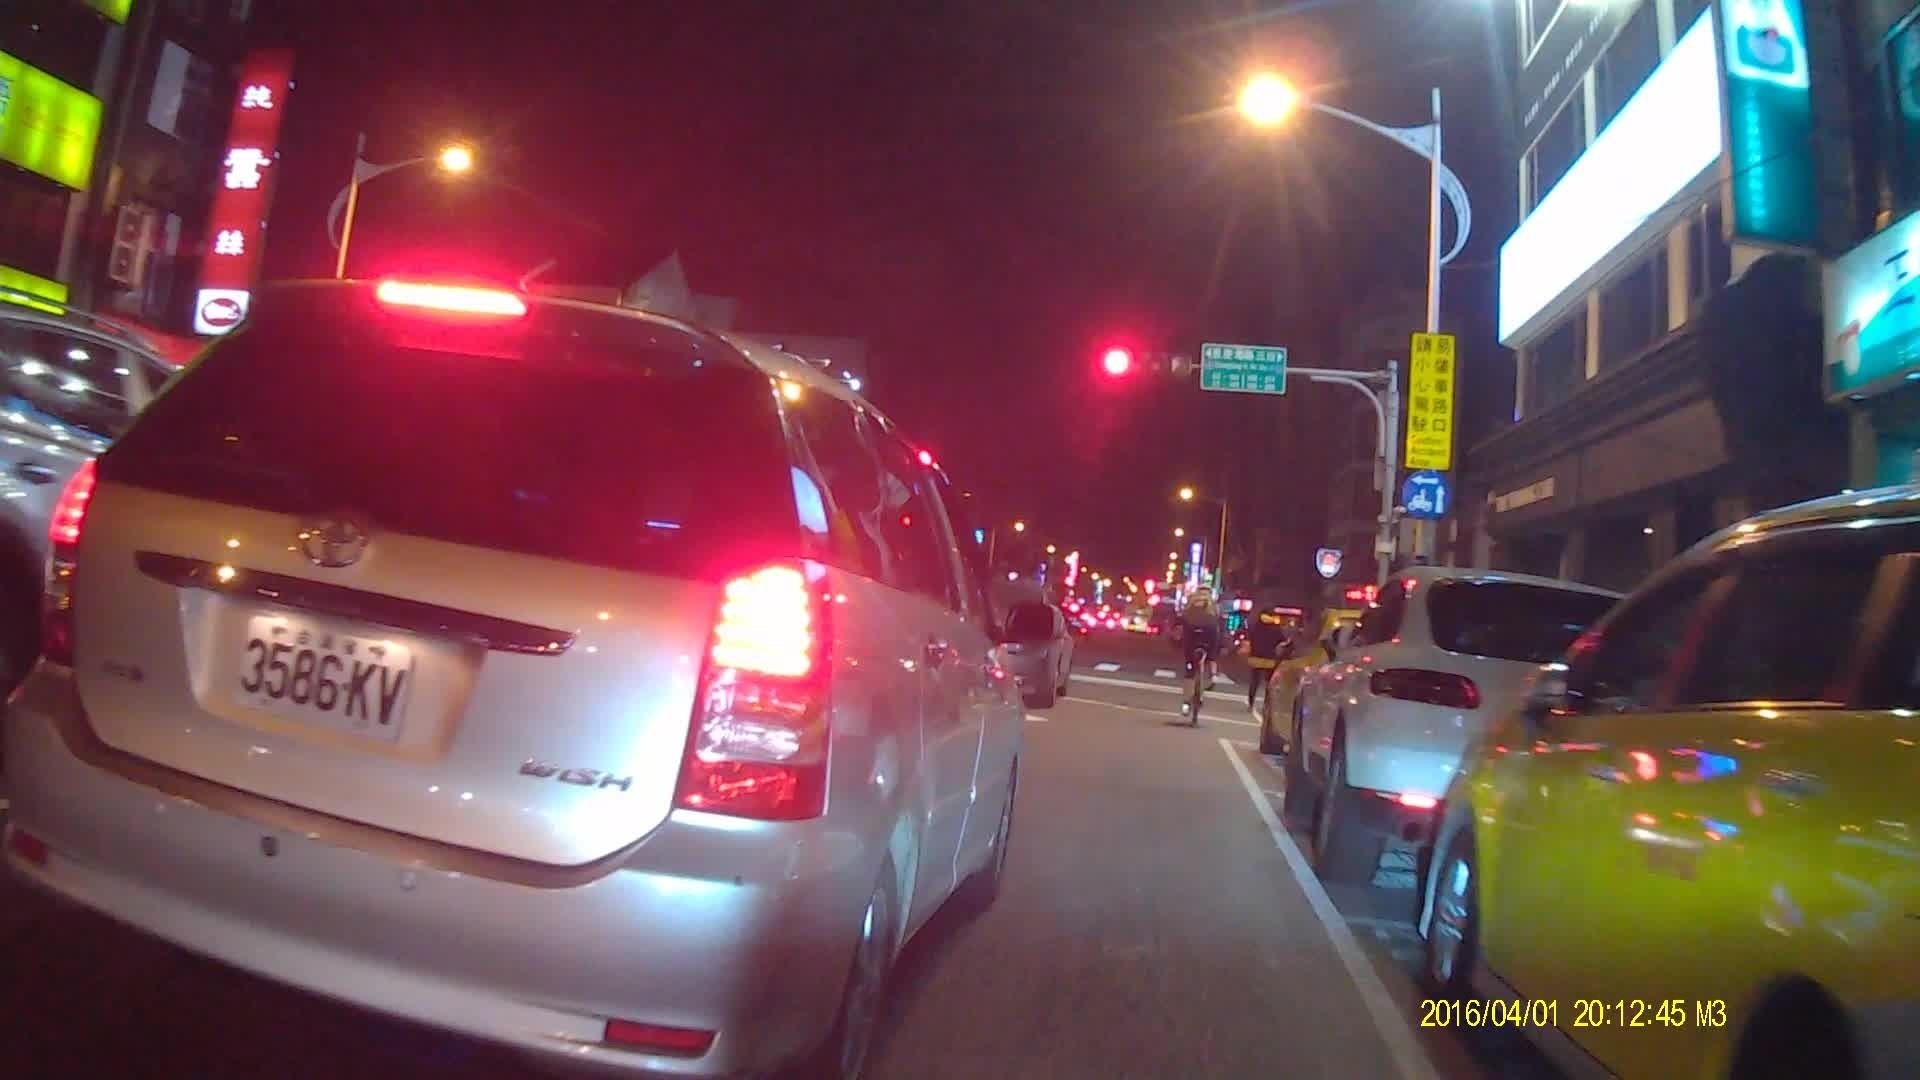License_plate: (234, 609, 416, 741)
